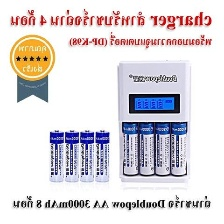battery: (151, 119, 171, 176), (45, 129, 65, 185), (77, 127, 96, 183), (169, 122, 188, 177), (121, 119, 139, 177), (137, 120, 155, 177), (92, 128, 110, 183), (63, 126, 80, 183)
